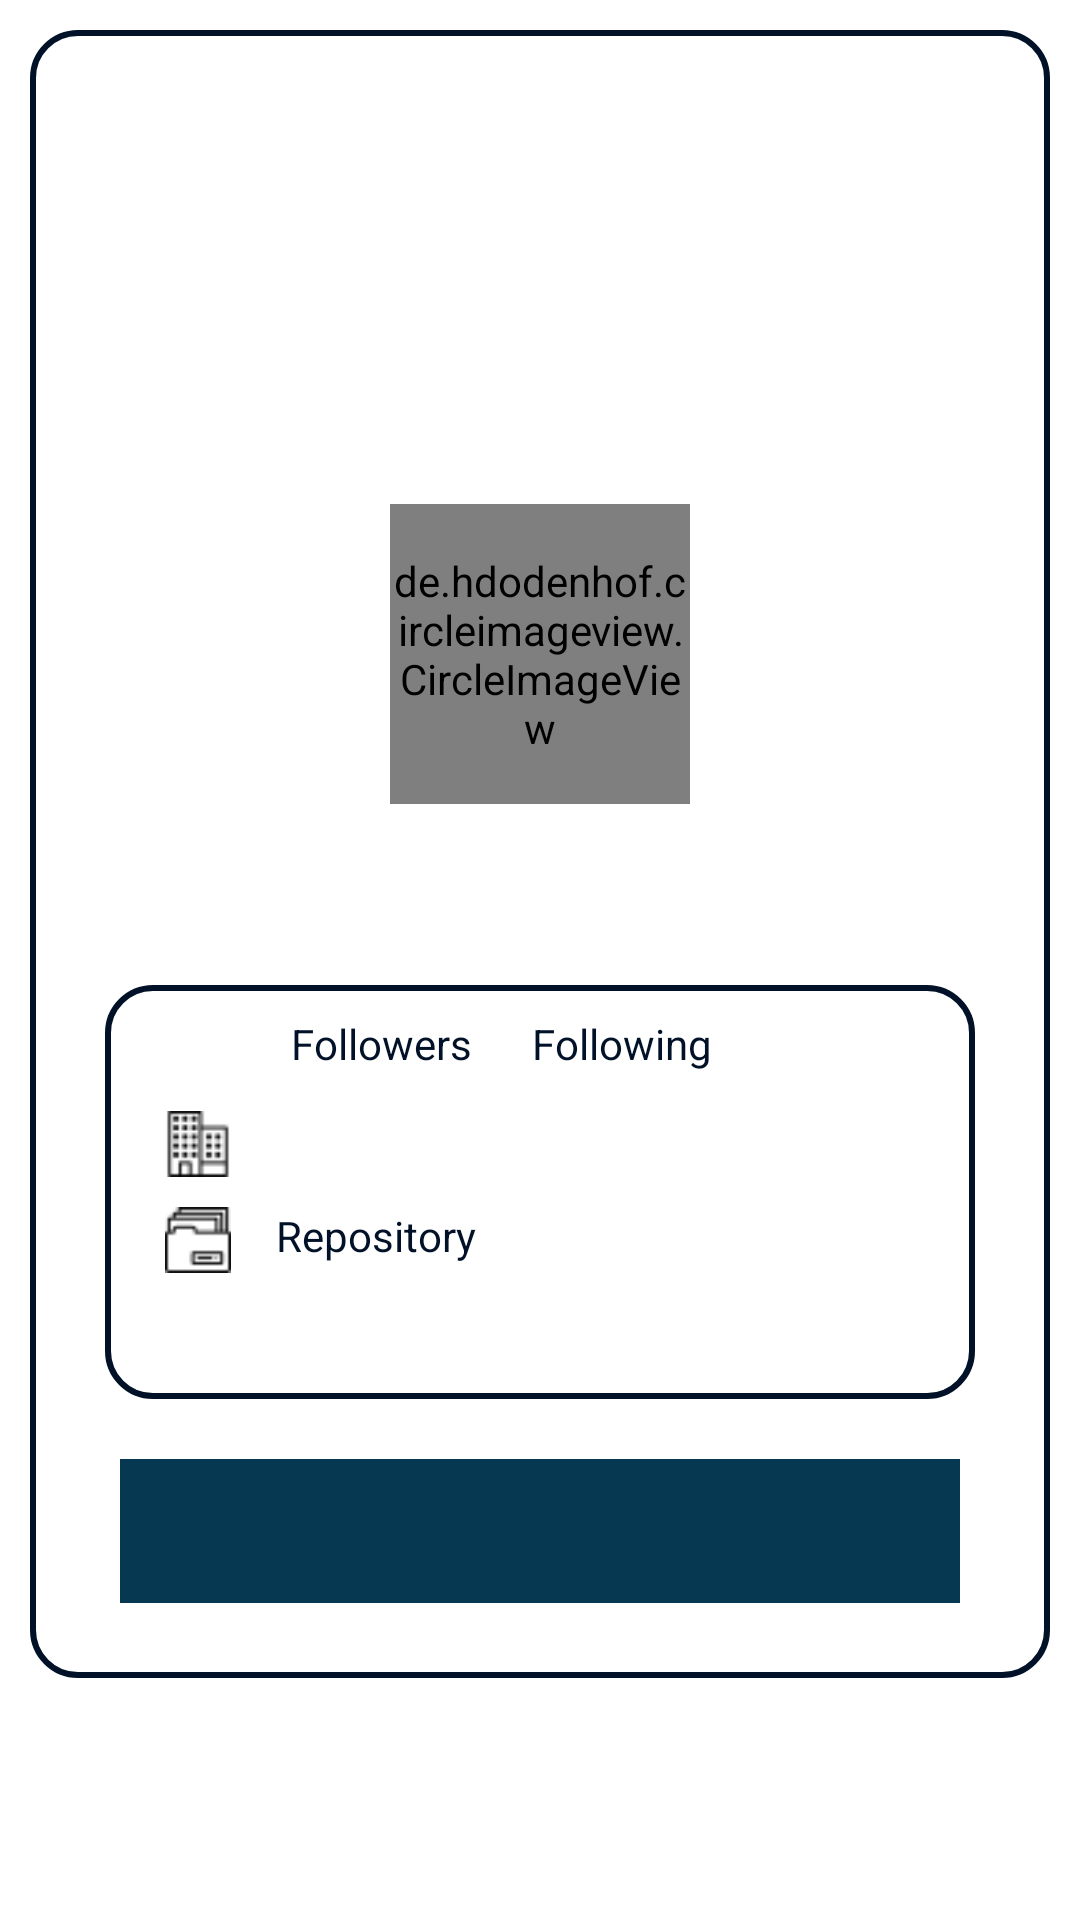

Icons on this 1080px x 1920px Android screen, each with its box as {"x1": x1, "y1": y1, "x2": x2, "y2": y2}:
Company: {"x1": 167, "y1": 1111, "x2": 229, "y2": 1177}
